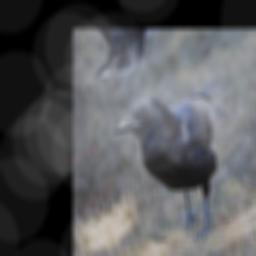Crow: (109, 57, 256, 256)
